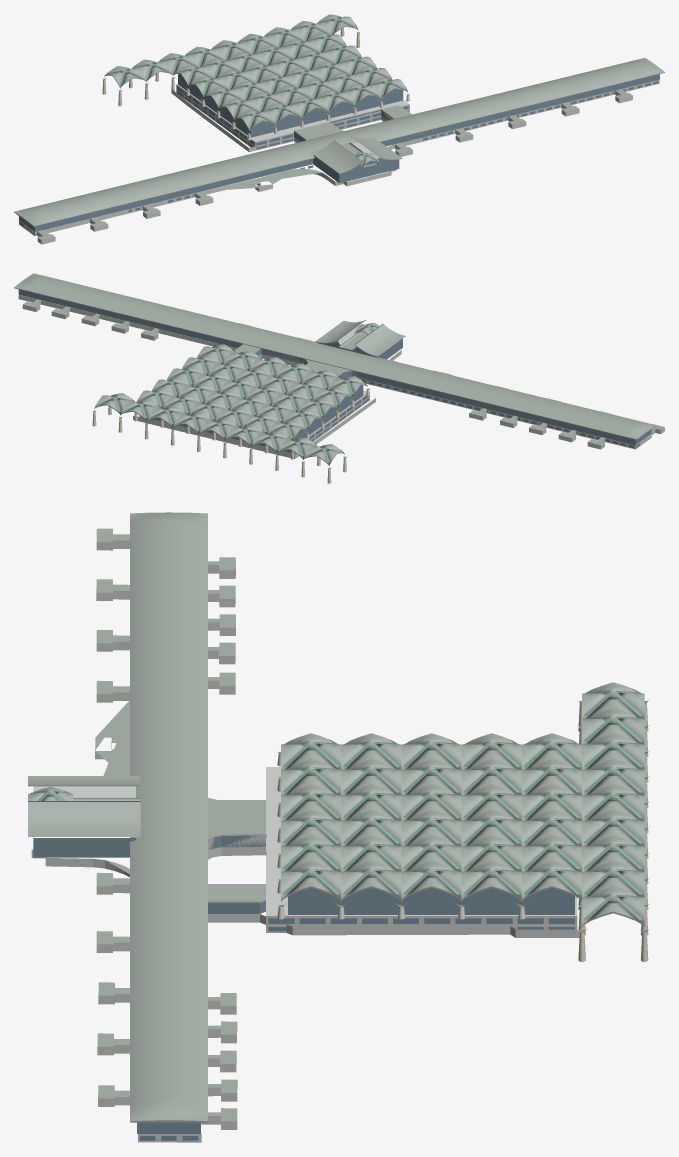
Rendered from kl-klia-terminal-1.glb.
The picture shows the model from 3 angles, top to bottom: view 1: azimuth 30°, elevation 25°; view 2: azimuth 150°, elevation 25°; view 3: azimuth 270°, elevation 25°; orthographic projection. The views are drawn at different scales.
Parts seen in each view (by area): view 1: KLIA Terminal 1 (Main Terminal Building and Contact Pier); view 2: KLIA Terminal 1 (Main Terminal Building and Contact Pier); view 3: KLIA Terminal 1 (Main Terminal Building and Contact Pier).
Part boxes in pixels (<box>): KLIA Terminal 1 (Main Terminal Building and Contact Pier): <box>14,14,664,244</box>; KLIA Terminal 1 (Main Terminal Building and Contact Pier): <box>14,273,664,483</box>; KLIA Terminal 1 (Main Terminal Building and Contact Pier): <box>28,512,650,1142</box>.
Bounding box in the file's own units: 918 × 36.2 × 398.
